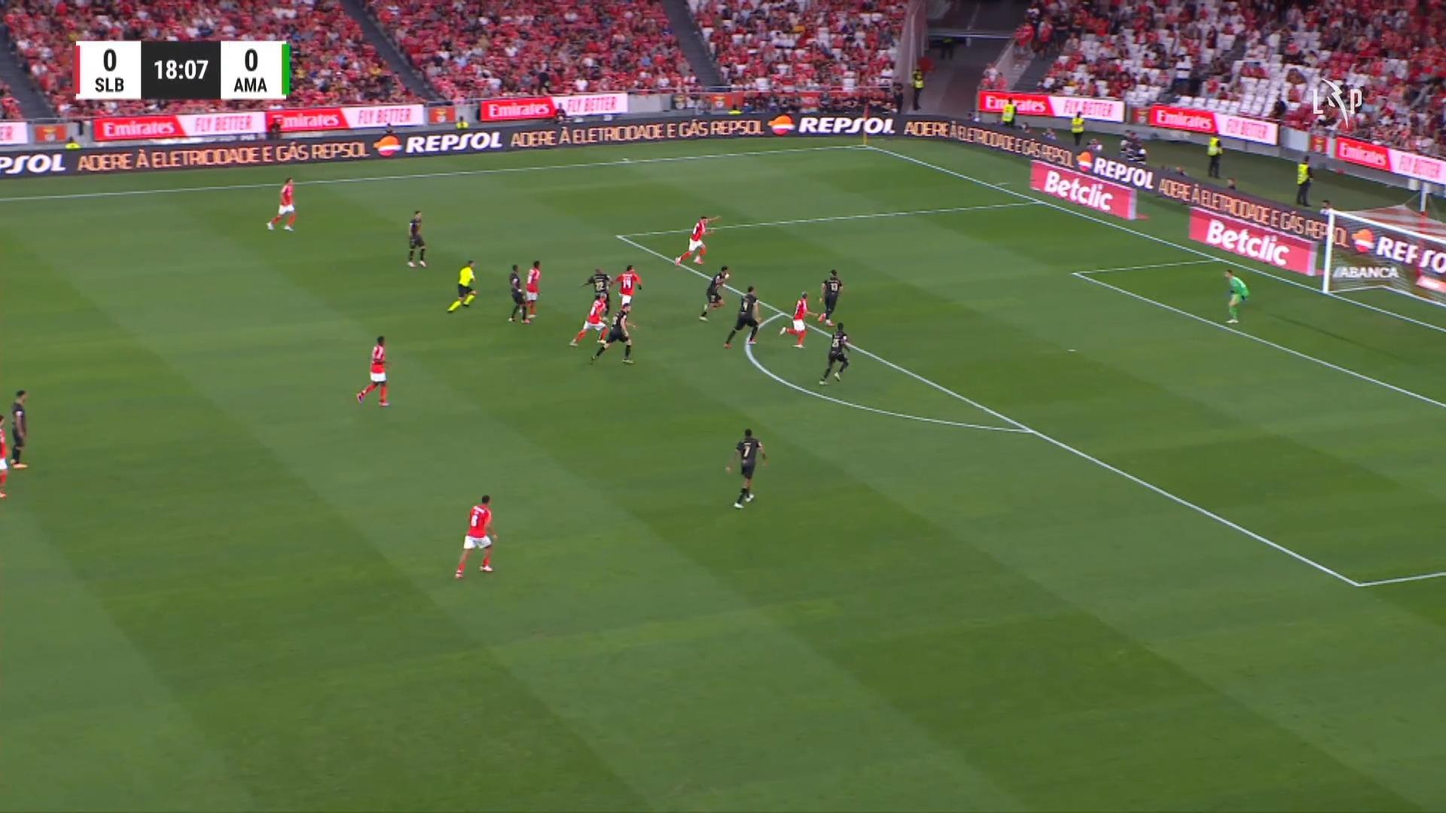ball: (710, 299, 724, 309)
goalkeeper: (1223, 268, 1249, 323)
player: (453, 494, 498, 579), (725, 428, 767, 509), (589, 307, 636, 364), (355, 334, 391, 406), (674, 214, 721, 267), (568, 291, 611, 348), (723, 285, 761, 349), (818, 321, 851, 385), (778, 291, 814, 349), (698, 265, 731, 321), (612, 263, 642, 323), (266, 176, 297, 231), (816, 269, 843, 326), (10, 388, 29, 468), (506, 263, 528, 322), (580, 266, 612, 305), (406, 209, 427, 267), (523, 259, 541, 321)
referee: (446, 258, 478, 312)
